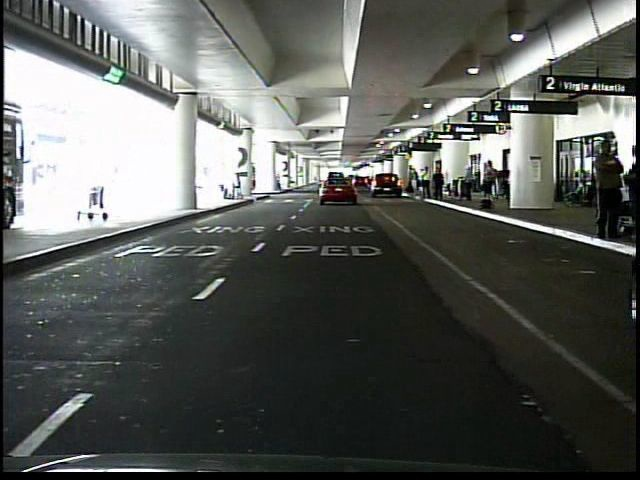person: (589, 137, 623, 243), (481, 161, 496, 209), (462, 166, 476, 203), (432, 168, 446, 203), (421, 165, 433, 200), (408, 167, 419, 198), (229, 173, 241, 201), (274, 172, 284, 189)
